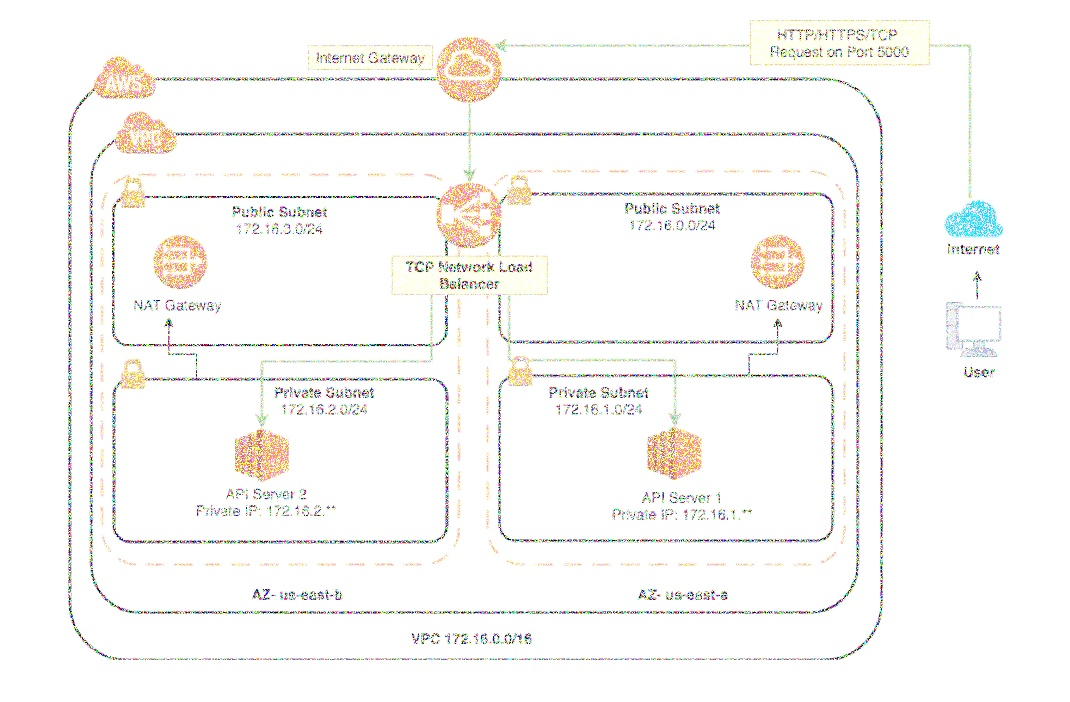EC2: (642, 421, 710, 484), (229, 427, 296, 486)
ELB: (432, 180, 507, 251)
Internet: (435, 32, 504, 104), (939, 188, 1008, 243)
NAT Gateway: (146, 225, 217, 296), (749, 228, 808, 292)
Public Subnet: (115, 171, 156, 217), (501, 165, 538, 210), (115, 352, 154, 394), (503, 351, 536, 390)
Web Clients: (939, 294, 1013, 364)
aws: (91, 44, 161, 105)
